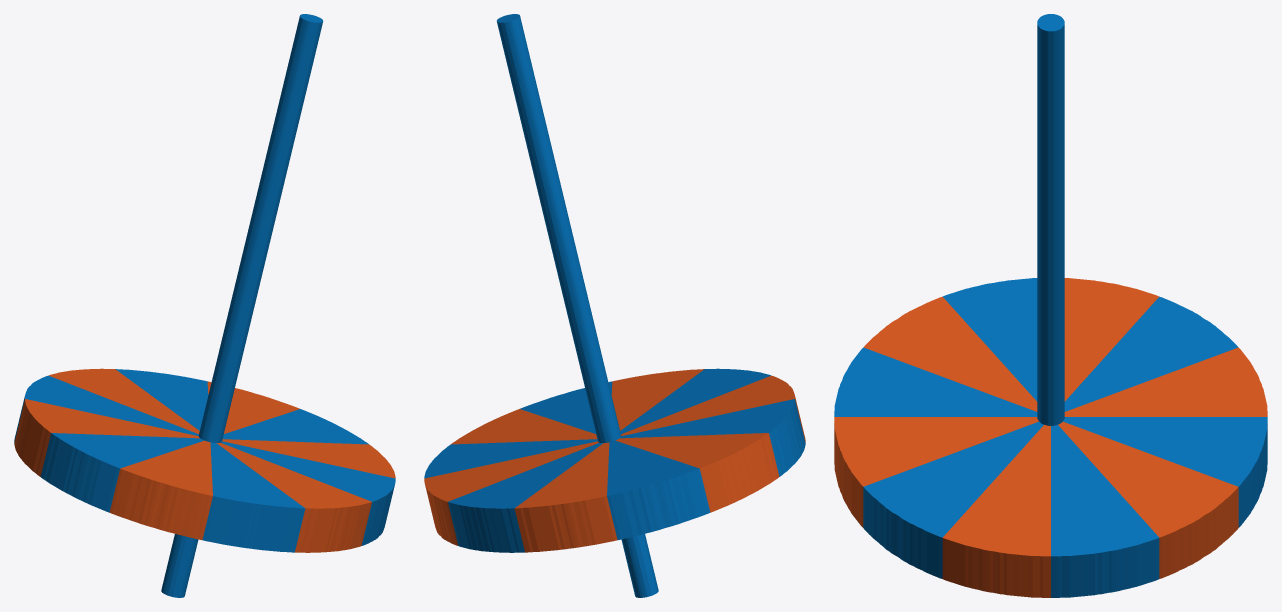
Rendered from spinning-top.glb.
The picture shows the model from 3 angles, left to right: view 1: azimuth 30°, elevation 25°; view 2: azimuth 150°, elevation 25°; view 3: azimuth 270°, elevation 25°; orthographic projection. The views are drawn at different scales.
Visible parts, largest first — view 1: RotBody_2; view 2: RotBody_2; view 3: RotBody_2.
Part boxes in pixels (x1,y1,x2,y2): RotBody_2: (14, 14, 395, 597); RotBody_2: (424, 14, 805, 597); RotBody_2: (834, 14, 1267, 597).
Size of the model in its own units: 0.0799 by 0.1269 by 0.08.
